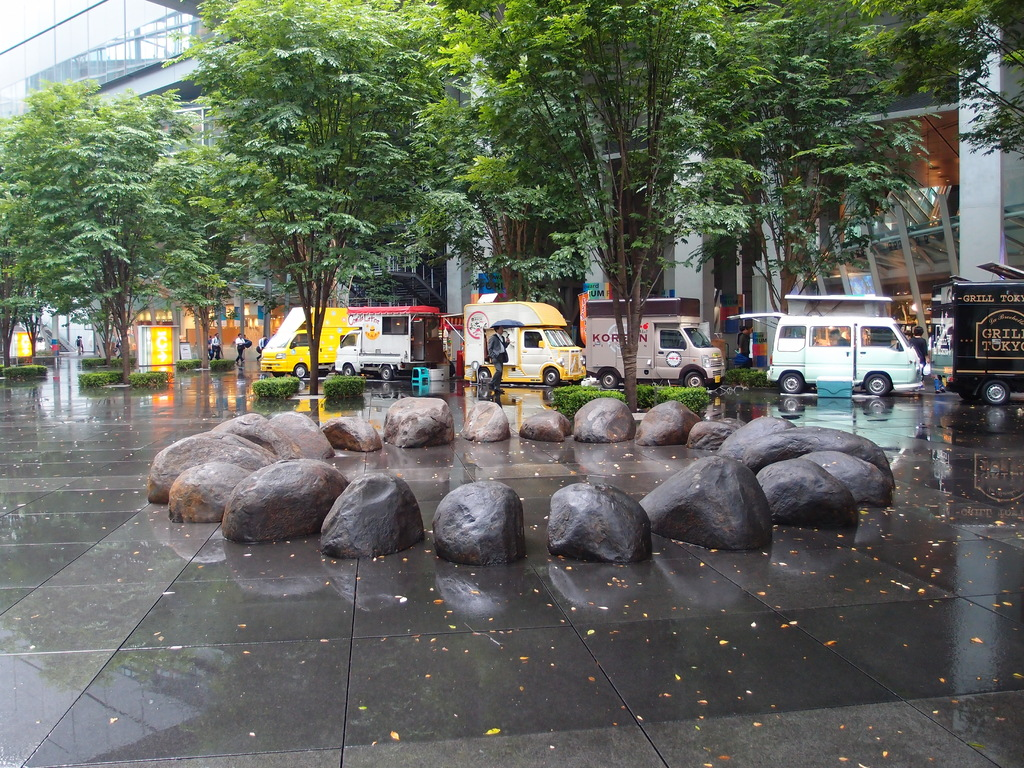Tree: (172, 0, 481, 433), (731, 0, 1022, 369), (467, 0, 782, 234), (0, 72, 197, 343)
